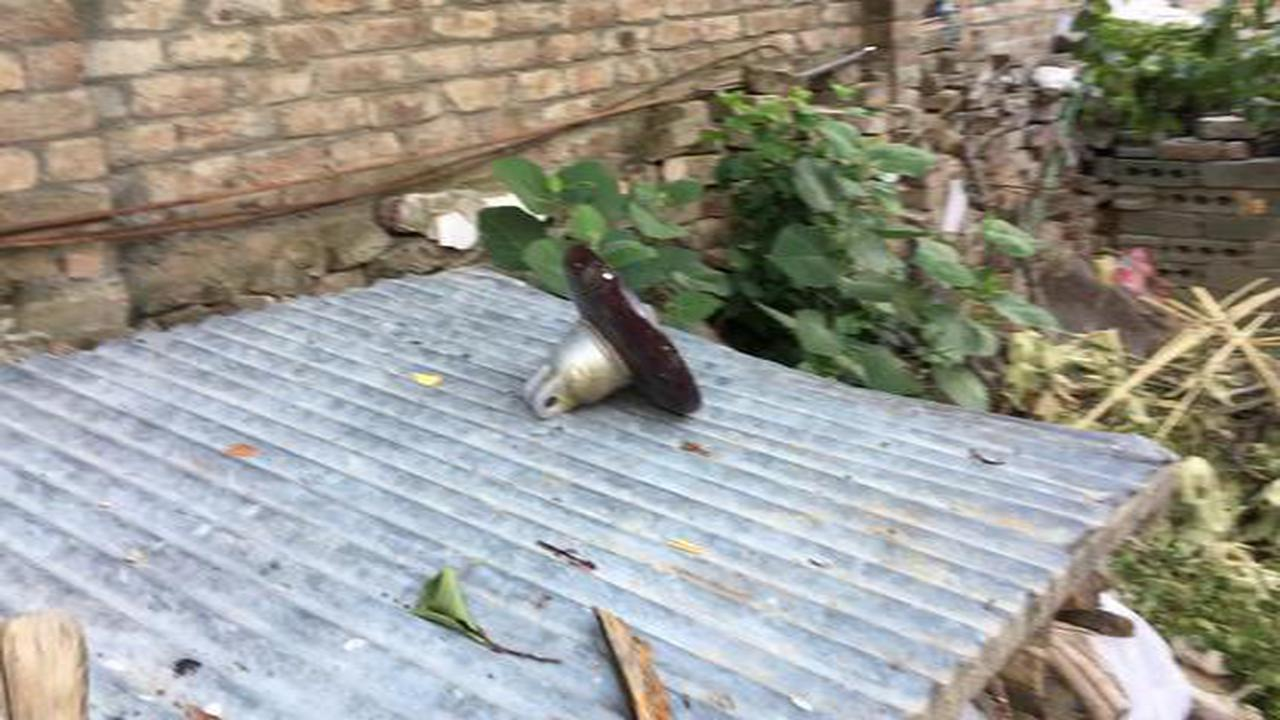insulator_disc: (517, 238, 710, 444)
